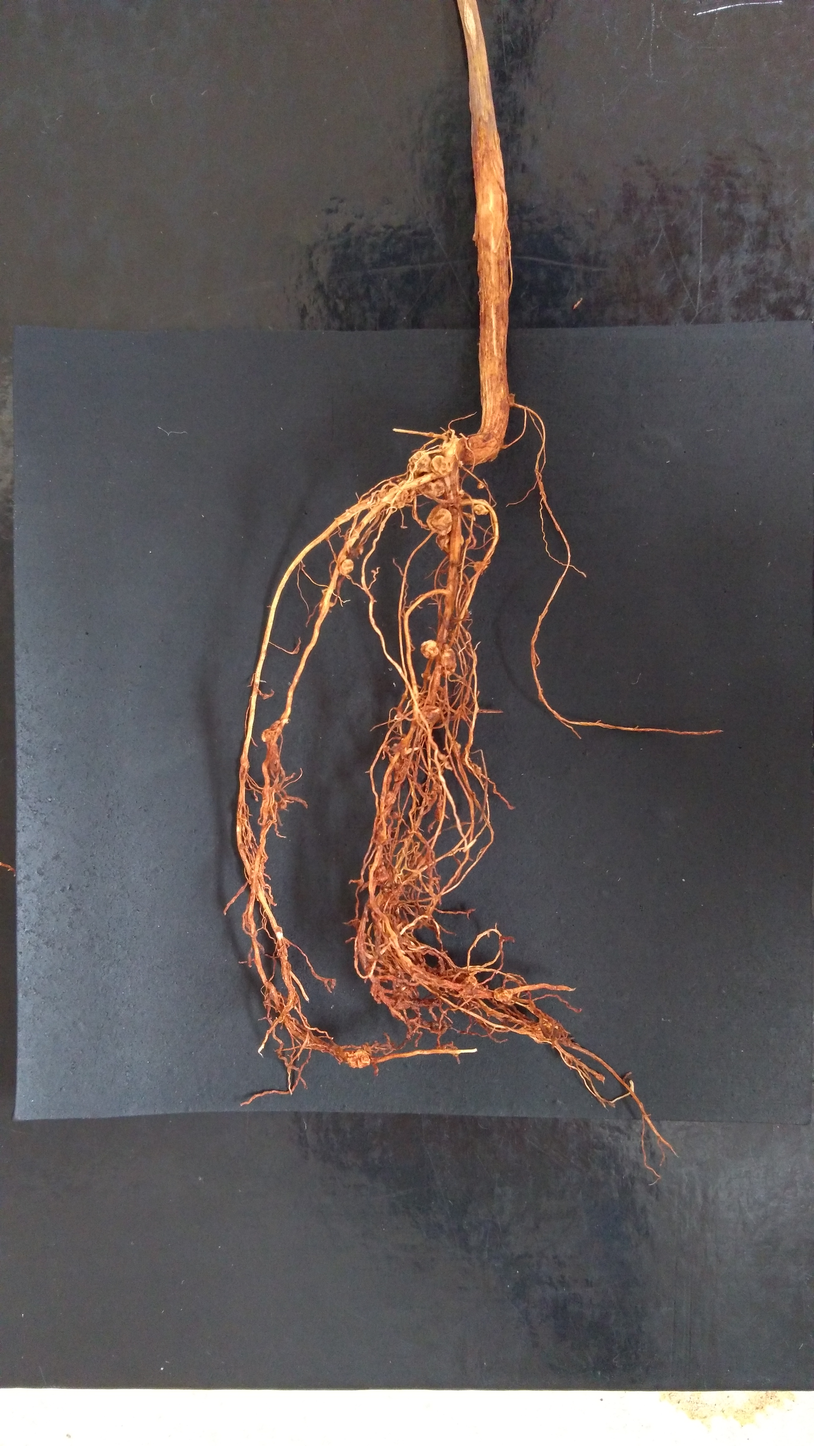nodule: (373, 892, 400, 923), (426, 504, 452, 535), (418, 471, 445, 499), (532, 1018, 561, 1044), (408, 450, 434, 477), (435, 531, 464, 553), (440, 642, 457, 677), (457, 975, 479, 1002), (429, 455, 454, 476), (388, 484, 409, 509), (260, 720, 282, 743), (346, 1048, 371, 1068), (419, 704, 440, 727), (408, 848, 426, 871), (390, 992, 413, 1010), (398, 480, 415, 504), (420, 639, 439, 660), (493, 986, 514, 1004), (393, 757, 408, 782), (376, 864, 395, 883), (471, 498, 490, 515), (338, 558, 354, 576), (383, 789, 396, 807), (346, 547, 364, 559), (473, 560, 488, 573), (433, 806, 446, 820), (506, 392, 515, 407), (379, 488, 389, 499), (420, 672, 433, 680), (457, 459, 465, 468), (477, 481, 485, 489), (382, 743, 389, 752), (392, 810, 399, 818), (457, 488, 464, 495), (456, 743, 462, 750)
